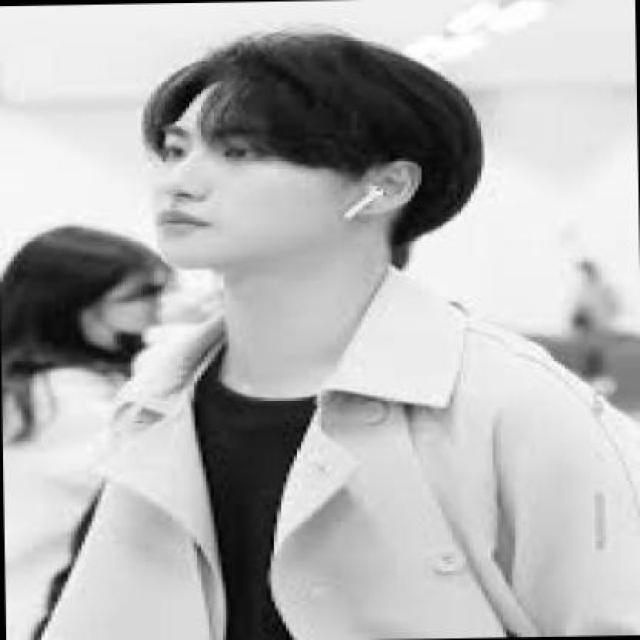earphone: (342, 177, 398, 238)
